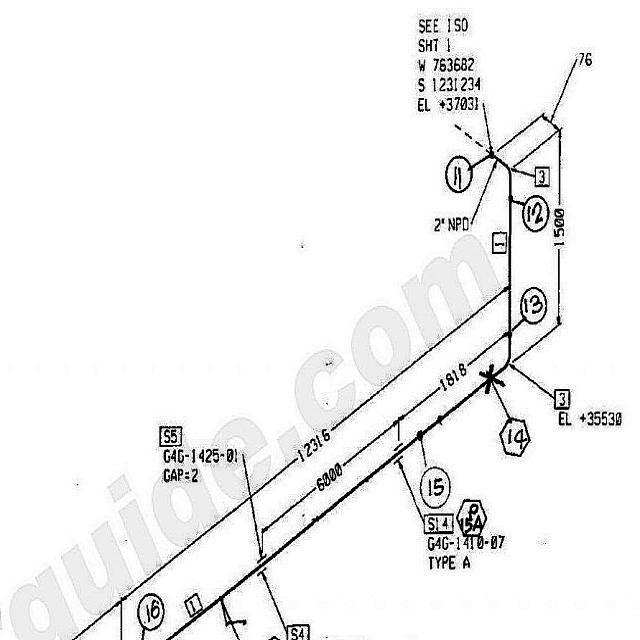Item number: (422, 511, 456, 535), (181, 586, 204, 620), (157, 423, 184, 450), (552, 385, 572, 411), (490, 228, 507, 256), (286, 621, 312, 639), (533, 164, 551, 189)
Measrement: (117, 273, 511, 620), (258, 411, 406, 539), (394, 321, 509, 434), (535, 38, 602, 140), (549, 119, 569, 328)
Pipeline: (149, 141, 520, 639)
Symbol: (490, 145, 518, 207), (477, 360, 508, 393), (253, 548, 273, 582), (223, 614, 249, 639), (392, 436, 408, 471), (432, 411, 448, 432)
Weld number: (415, 462, 454, 511), (495, 413, 533, 461), (440, 152, 477, 198), (452, 496, 490, 539), (134, 589, 168, 636), (518, 192, 552, 235), (517, 283, 549, 327)
other: (411, 11, 485, 118), (158, 443, 245, 488), (426, 534, 510, 573), (555, 407, 626, 430), (428, 213, 473, 235)
